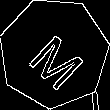M_NE: (21, 19, 87, 87)
